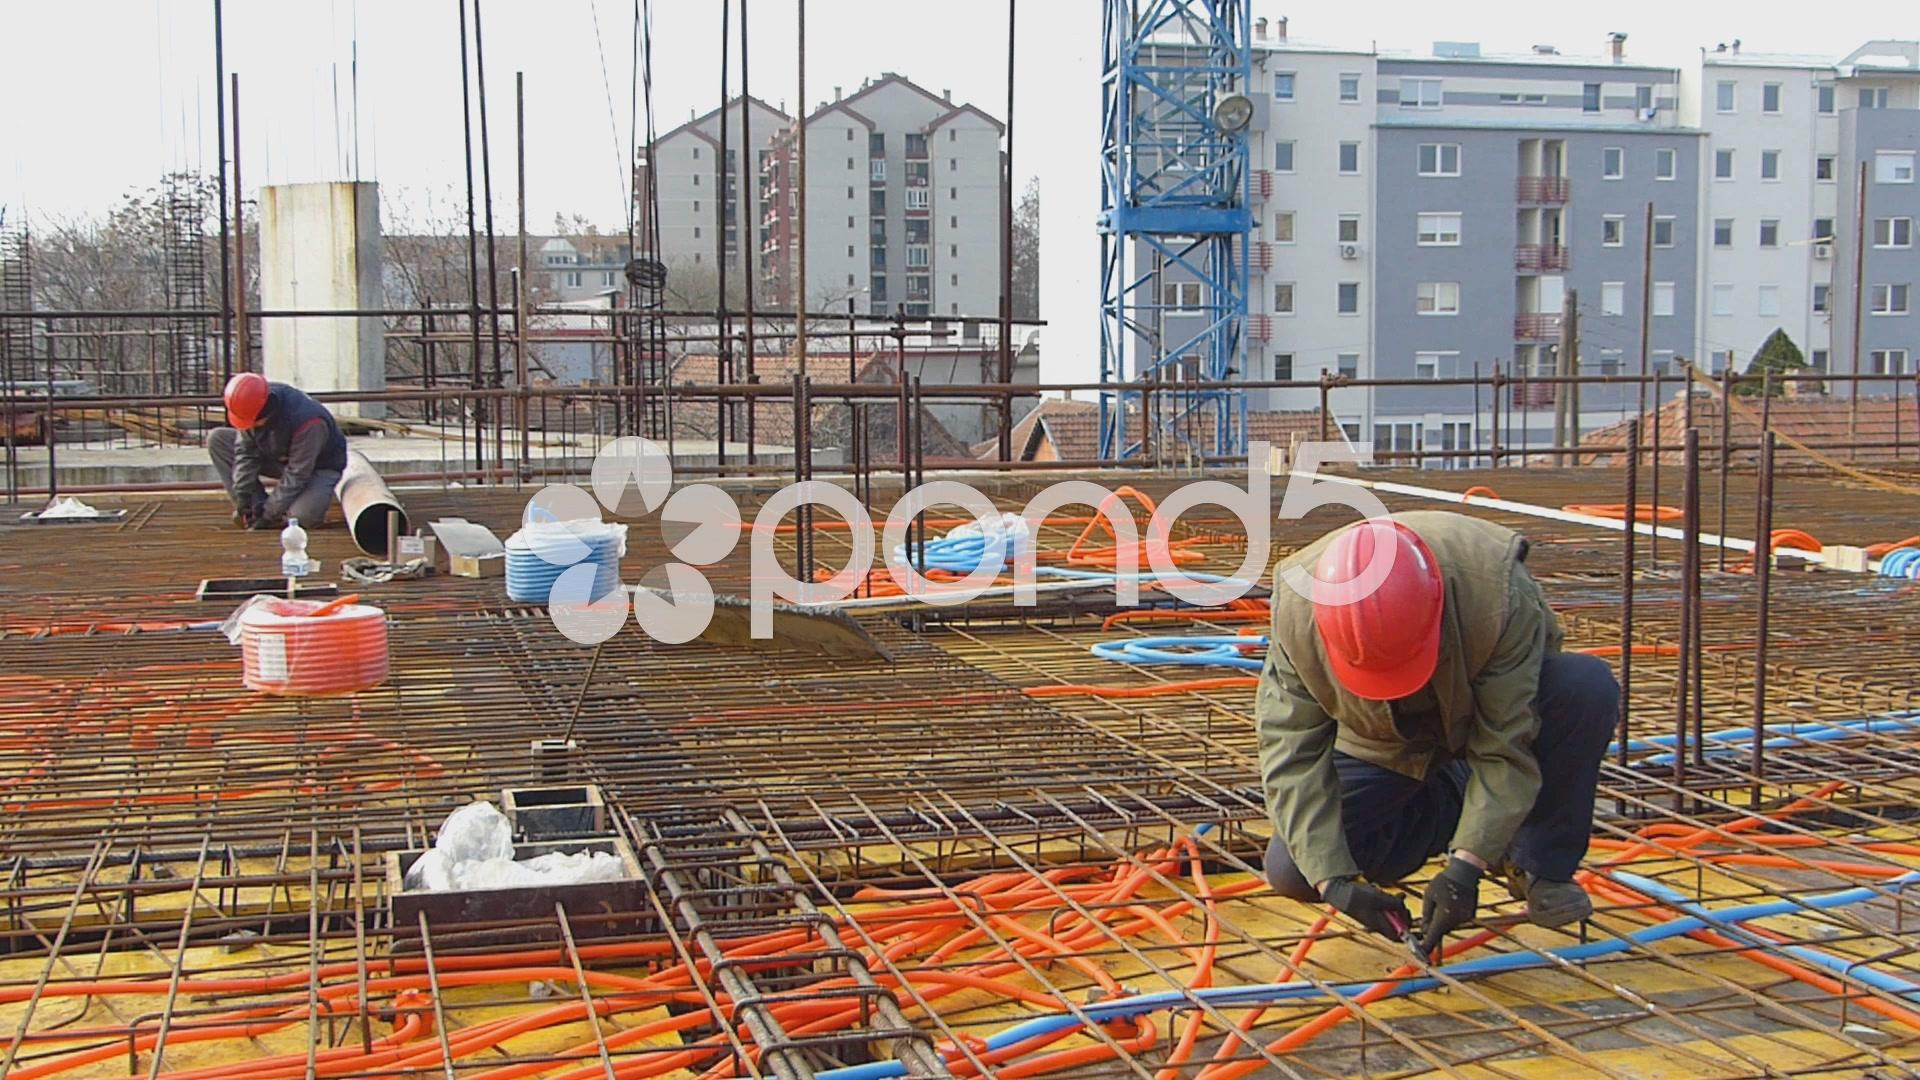hat: (1254, 495, 1509, 724), (200, 334, 311, 468)
vest: (1211, 505, 1662, 889), (165, 375, 405, 501)
